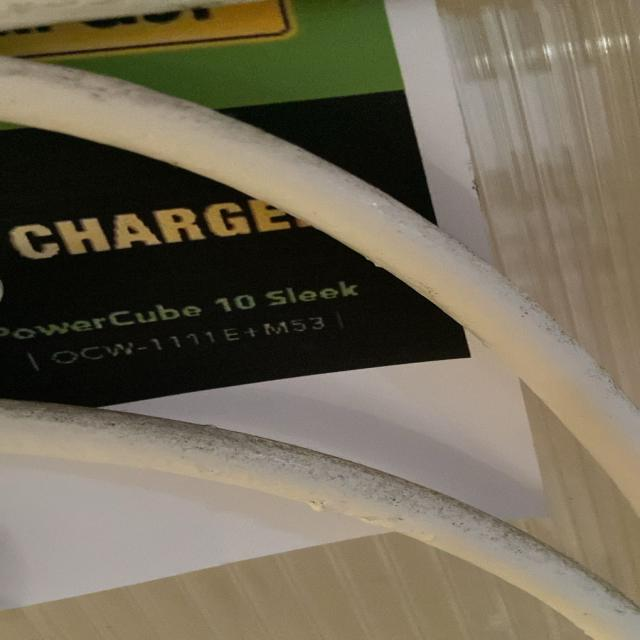PowerCube 10 Sleek OCW-1111ExM53: (0, 270, 369, 379)
